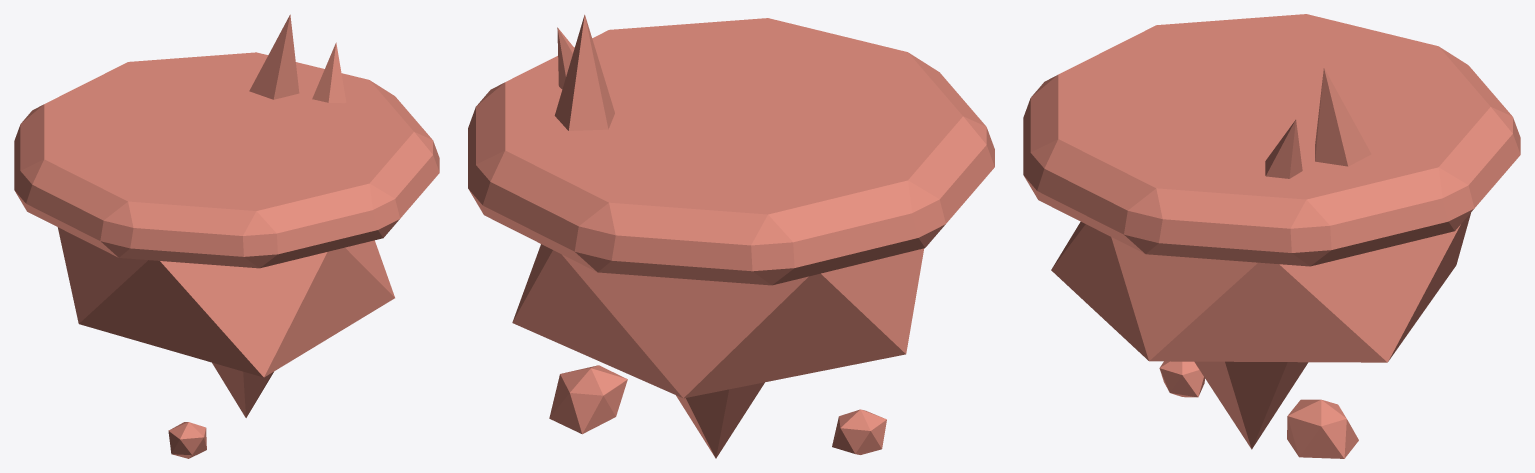
File: dreams-kit.glb
3 views of the same model, side by side, from view 1: azimuth 30°, elevation 25°; view 2: azimuth 150°, elevation 25°; view 3: azimuth 270°, elevation 25° (orthographic). The views are drawn at different scales.
Parts seen in each view (by area): view 1: stone; view 2: stone; view 3: stone.
Part boxes in pixels (left/top/right/bottom): stone: left=14, top=14, right=439, bottom=458; stone: left=468, top=14, right=994, bottom=458; stone: left=1023, top=14, right=1520, bottom=458.
Bounding box in the file's own units: 0.9458 × 0.8784 × 0.9314.
